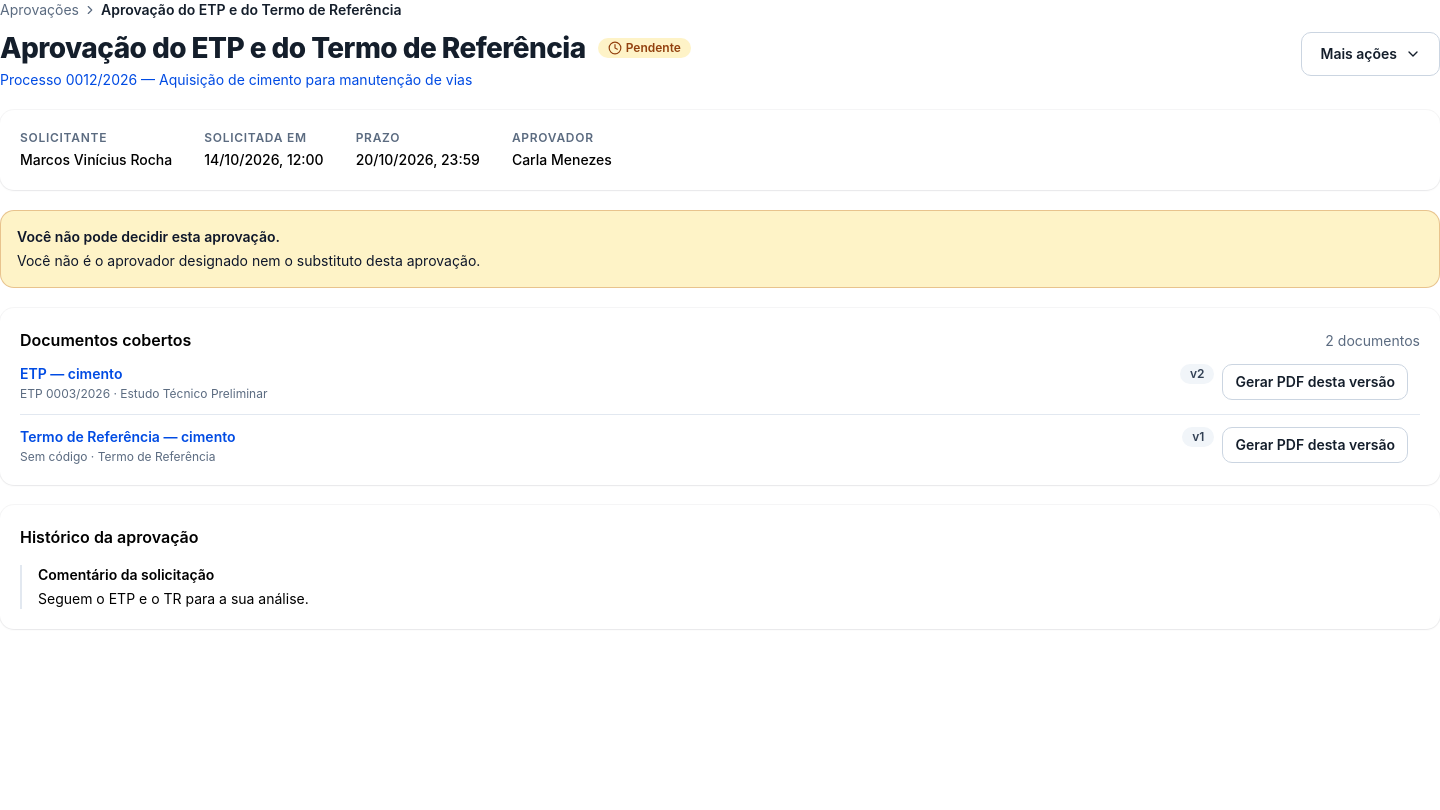
Test: SCR-015 · Retirar aprovação (US-053) › [Concorrência] já decidida: fecha, explica na tela e recarrega a aprovação
Click the button "Mais ações" at (1371, 54), box [1302, 32, 1439, 76]
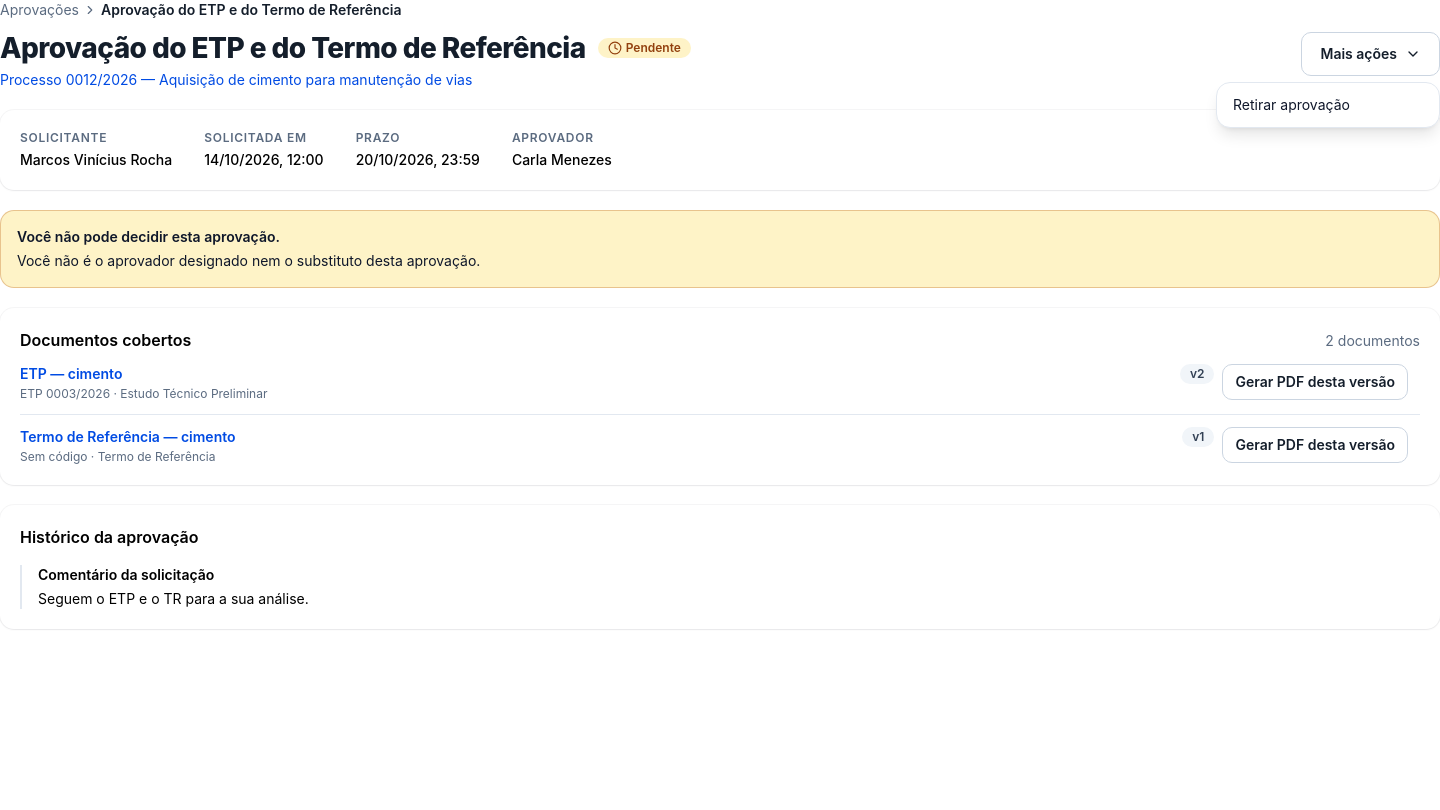
Click the menu item "Retirar aprovação" at (1291, 104), box [1233, 96, 1350, 113]
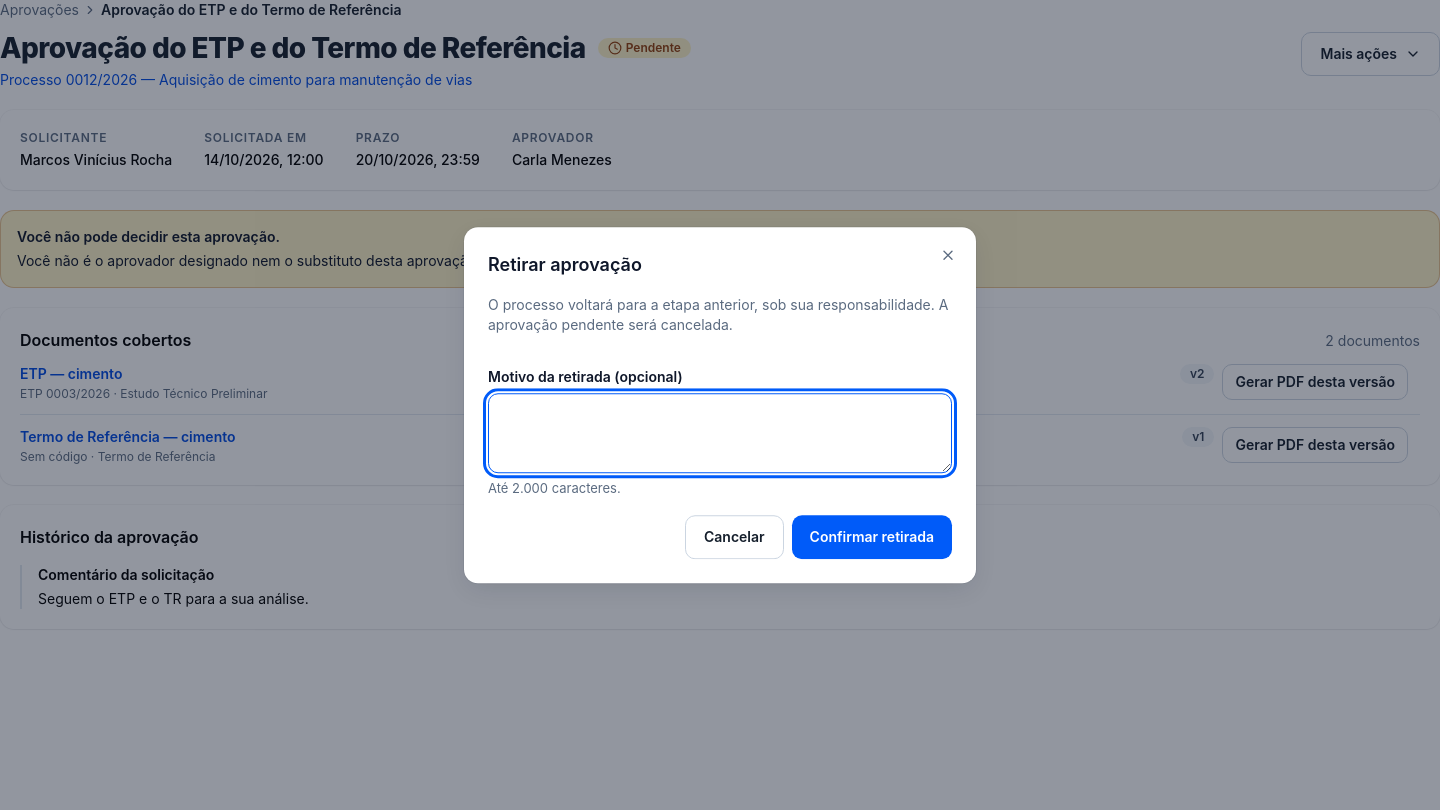
Click the button "Confirmar retirada" at (872, 537), box [792, 515, 952, 559]
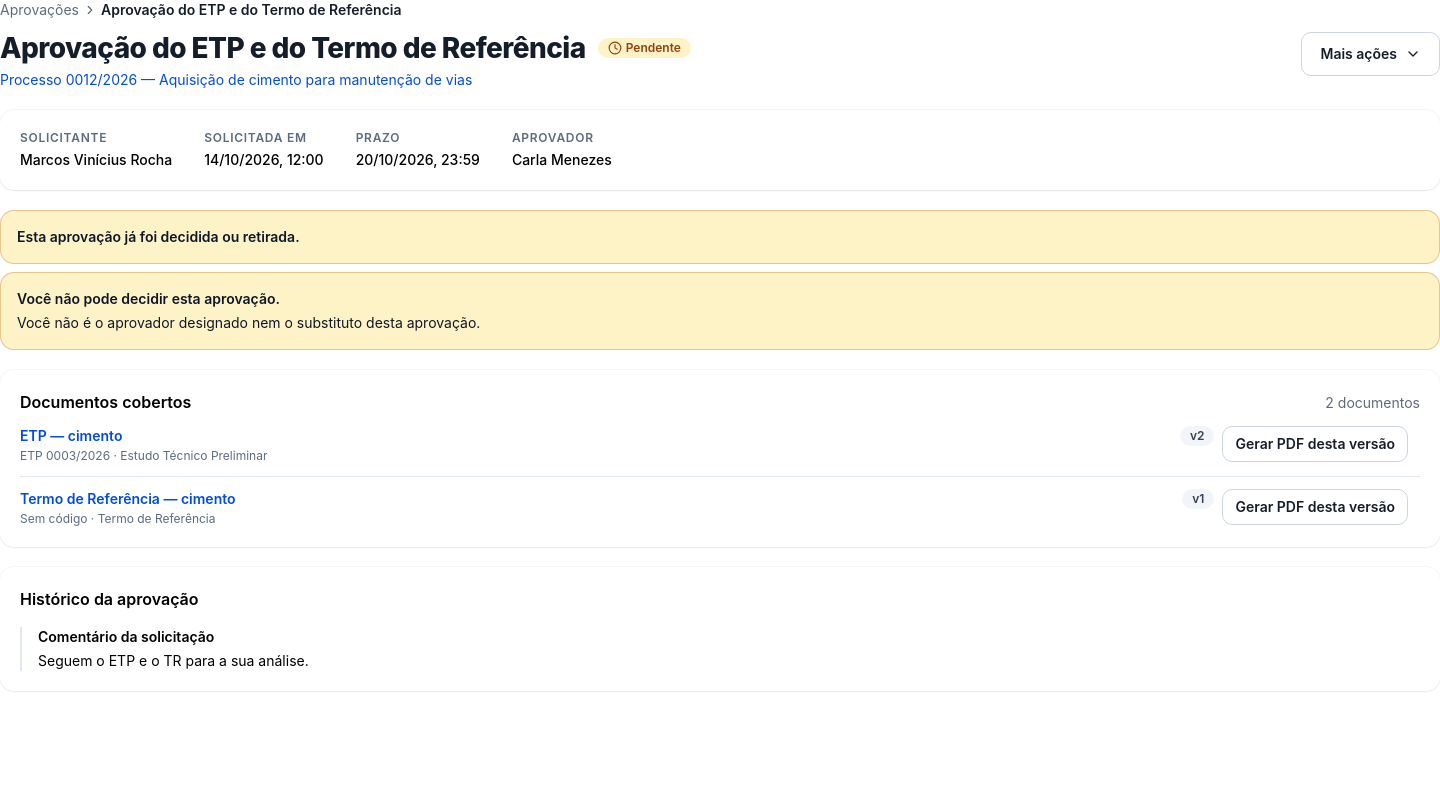
Result: the text "Esta aprovação já foi decidida ou retirada." is shown at [17, 228, 300, 245]
Result: the dialog is gone
